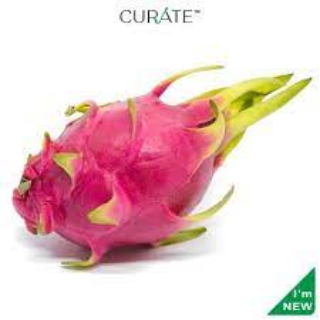thanh_long: (7, 88, 243, 255)
